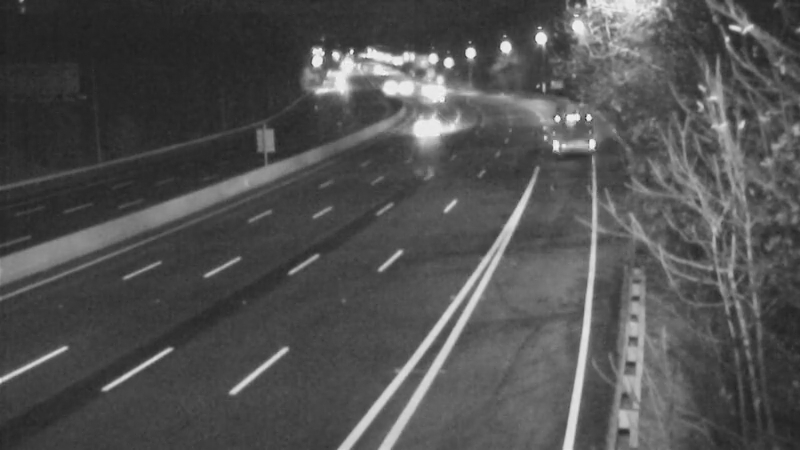vehicle: (381, 63, 431, 113), (361, 62, 411, 112), (396, 62, 446, 112), (408, 66, 458, 116), (407, 76, 457, 126), (531, 94, 581, 144), (411, 99, 461, 149)
